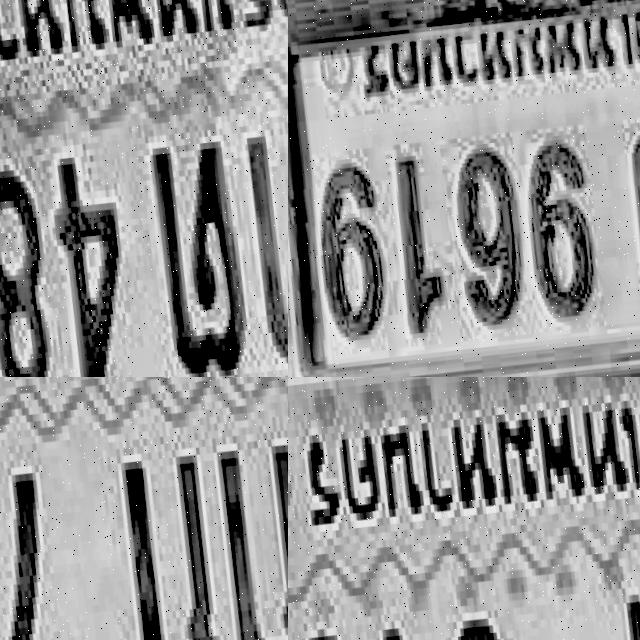license-plate: (288, 0, 640, 377), (0, 0, 288, 377), (288, 377, 640, 640), (0, 377, 288, 640)
